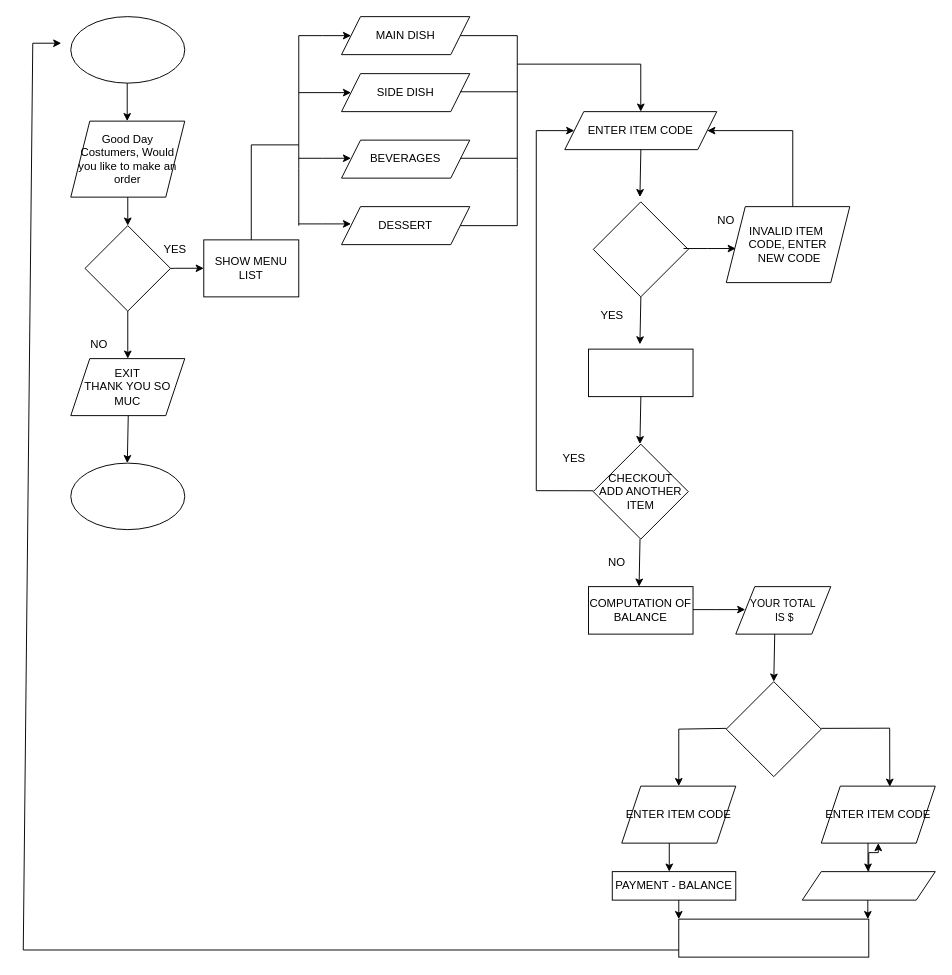
The diagram is 952 pixels wide and 975 high, and some of its shapes have lost their labels. Here are the shapes that lost their labels. From the top down, the centre of each, then its label:
At point 127,49: "START".
At point 127,268: "MAKE AN ORDER".
At point 640,249: "VALID ITEM CODE?".
At point 640,372: "ADD TO CART".
At point 127,496: "END".
At point 773,729: "SELECT PAYMENT METHOD".
At point 868,885: "ENTER CARD NUMBER".
At point 773,937: "PAYMENT & RECEIPT".
